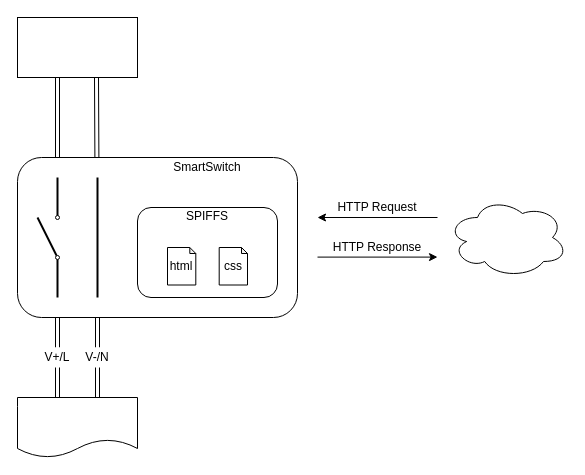
This 585x475 diagram has some shape labels left out. Here are the shapes that lost their labels. From the top down, the centre of each, then its label:
point (77, 47): Device
point (507, 237): Client
point (77, 427): Power
